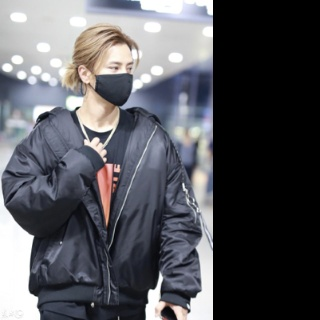with_mask: (92, 60, 135, 108)
